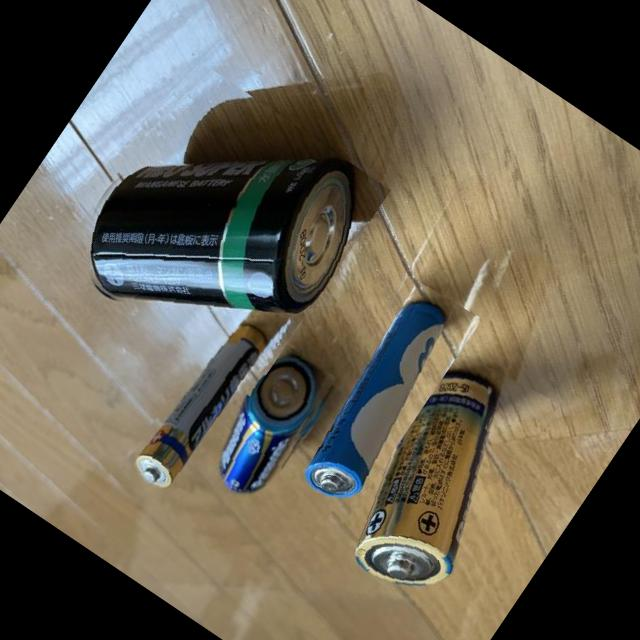Hazard: (49, 53, 390, 396), (313, 330, 568, 616), (263, 262, 482, 518), (118, 299, 283, 504), (180, 332, 342, 514)
